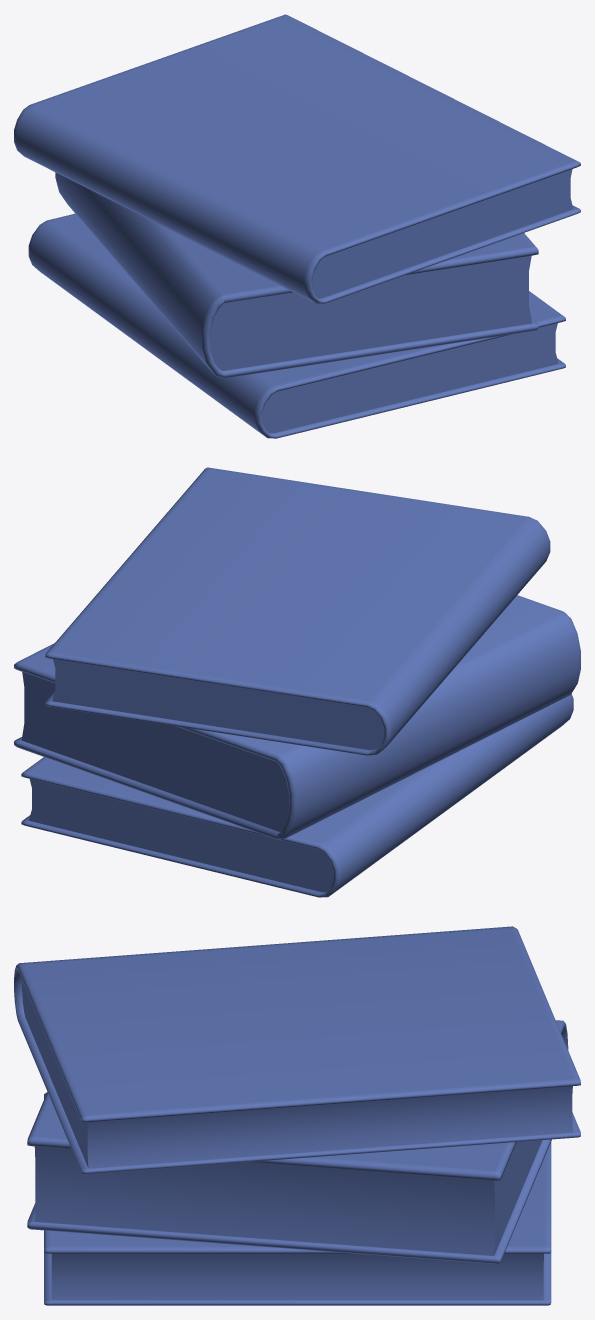
Rendered from Book_pile_A.FBX.
3 renders of one model, top to bottom at view 1: azimuth 30°, elevation 25°; view 2: azimuth 150°, elevation 25°; view 3: azimuth 270°, elevation 25°, orthographic. The views are drawn at different scales.
Visible parts, largest first — view 1: Book_pile_A_LOD00; view 2: Book_pile_A_LOD00; view 3: Book_pile_A_LOD00.
Boxes of the visible parts, <box> form: Book_pile_A_LOD00: <box>14,14,580,438</box>; Book_pile_A_LOD00: <box>14,467,580,897</box>; Book_pile_A_LOD00: <box>14,926,580,1305</box>.
Size of what is drawn, in the model's own units: 25.16 by 12.03 by 30.06.
